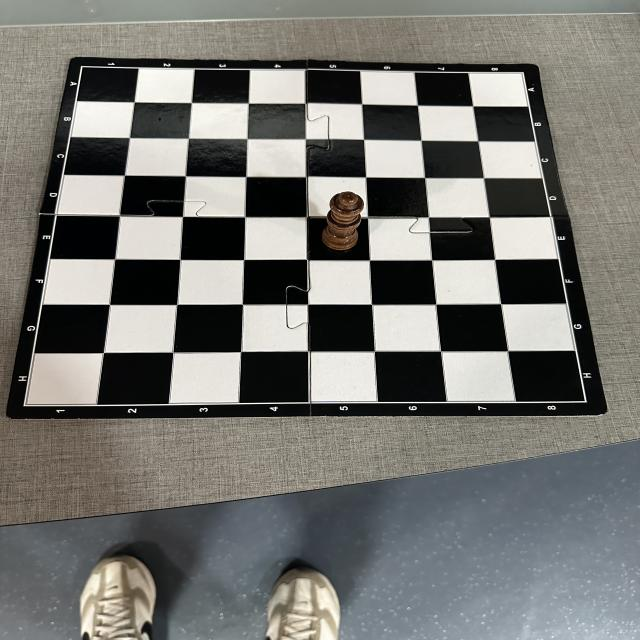Black-Queen: (321, 191, 364, 251)
